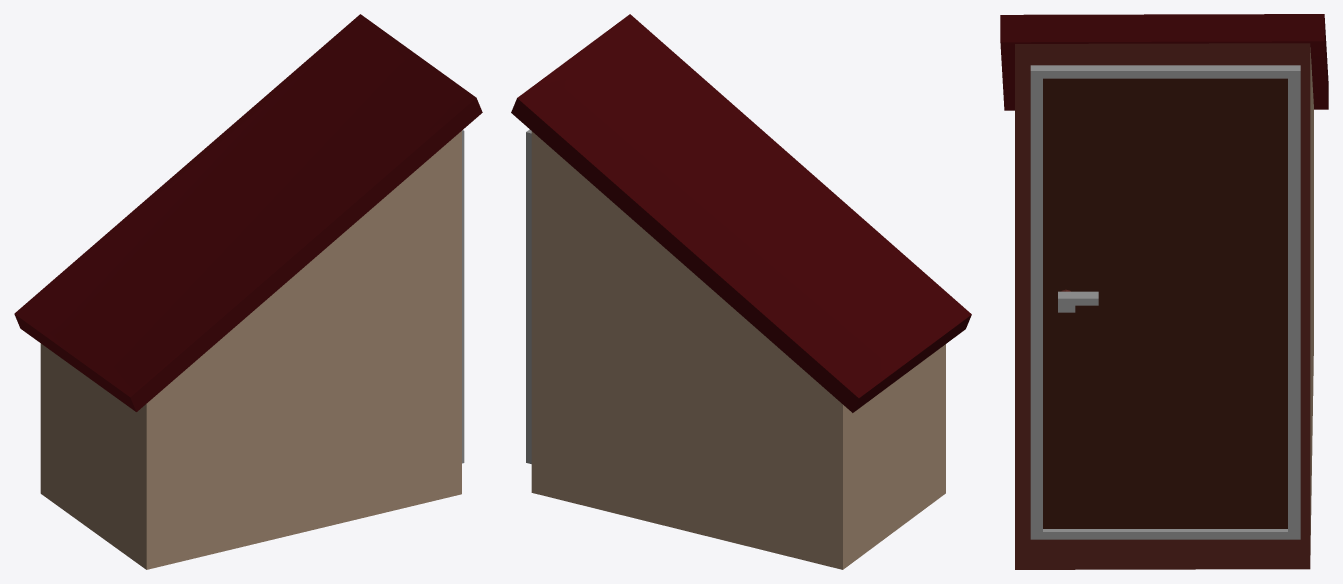
The model's file is RoofEntrance.fbx.
3 views of the same model, side by side, from view 1: azimuth 30°, elevation 25°; view 2: azimuth 150°, elevation 25°; view 3: azimuth 270°, elevation 25° (orthographic). The views are drawn at different scales.
Visible parts, largest first — view 1: Cube.720; view 2: Cube.720; view 3: Cube.720.
Boxes of the visible parts, x1=… form: Cube.720: x1=14, y1=14, x2=482, y2=569; Cube.720: x1=511, y1=14, x2=971, y2=569; Cube.720: x1=1000, y1=14, x2=1328, y2=569.
Bounding box in the file's own units: 499 × 537 × 284.
